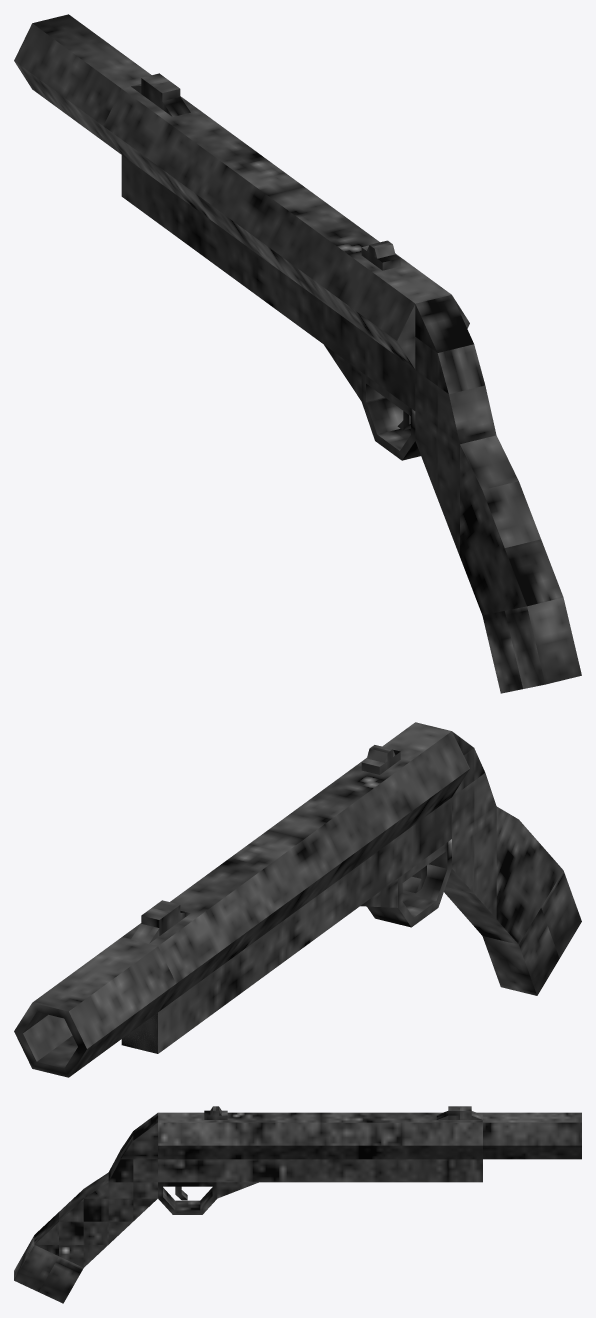
Rendered from PISTOL NEW VERSION.fbx.
The picture shows the model from 3 angles, top to bottom: view 1: azimuth 30°, elevation 25°; view 2: azimuth 150°, elevation 25°; view 3: azimuth 270°, elevation 25°; orthographic projection. The views are drawn at different scales.
Parts seen in each view (by area): view 1: PISTOL EM; view 2: PISTOL EM; view 3: PISTOL EM.
Boxes of the visible parts, x1,y1,x2,y2 form: PISTOL EM: [14, 14, 581, 693]; PISTOL EM: [14, 722, 581, 1077]; PISTOL EM: [14, 1106, 581, 1303].
Size of the model in its own units: 47.2 by 212 by 575.
Materials: 1 (1 with a texture image).
